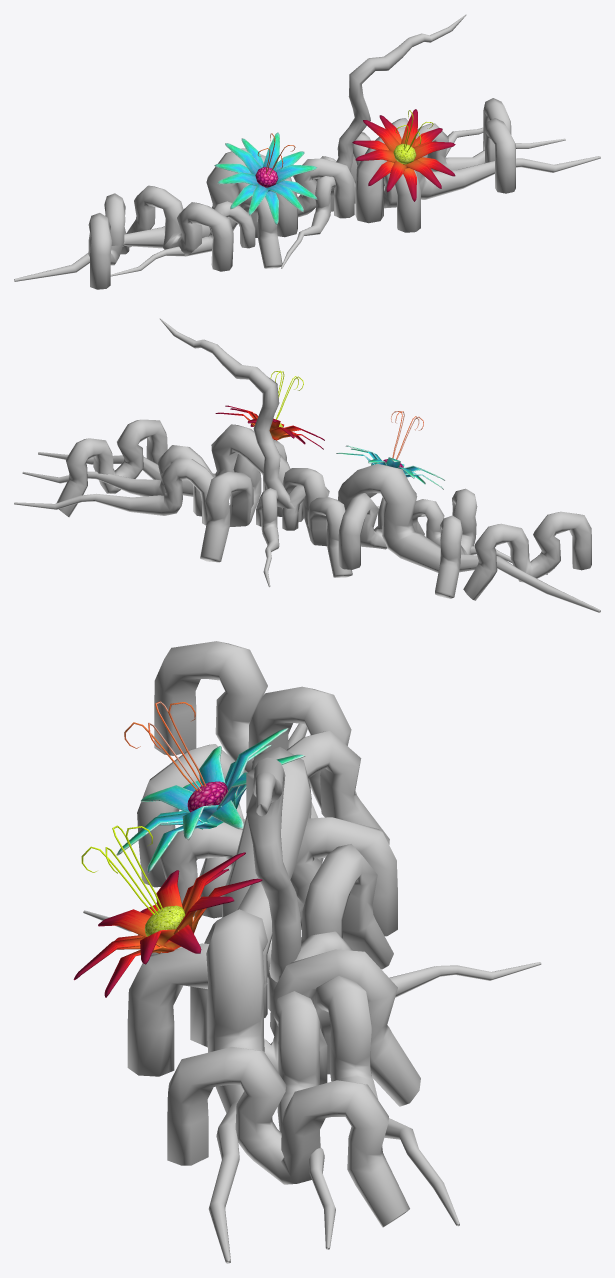
The model's file is Bush_Mutant_Root.fbx.
The picture shows the model from 3 angles, top to bottom: view 1: azimuth 30°, elevation 25°; view 2: azimuth 150°, elevation 25°; view 3: azimuth 270°, elevation 25°; orthographic projection. The views are drawn at different scales.
Parts seen in each view (by area): view 1: Bush_Mutant_Root; view 2: Bush_Mutant_Root; view 3: Bush_Mutant_Root.
Boxes of the visible parts, x1=… form: Bush_Mutant_Root: x1=14, y1=14, x2=600, y2=289; Bush_Mutant_Root: x1=14, y1=318, x2=600, y2=612; Bush_Mutant_Root: x1=73, y1=641, x2=541, y2=1263.
Bounding box in the file's own units: 1466 × 473 × 525.
